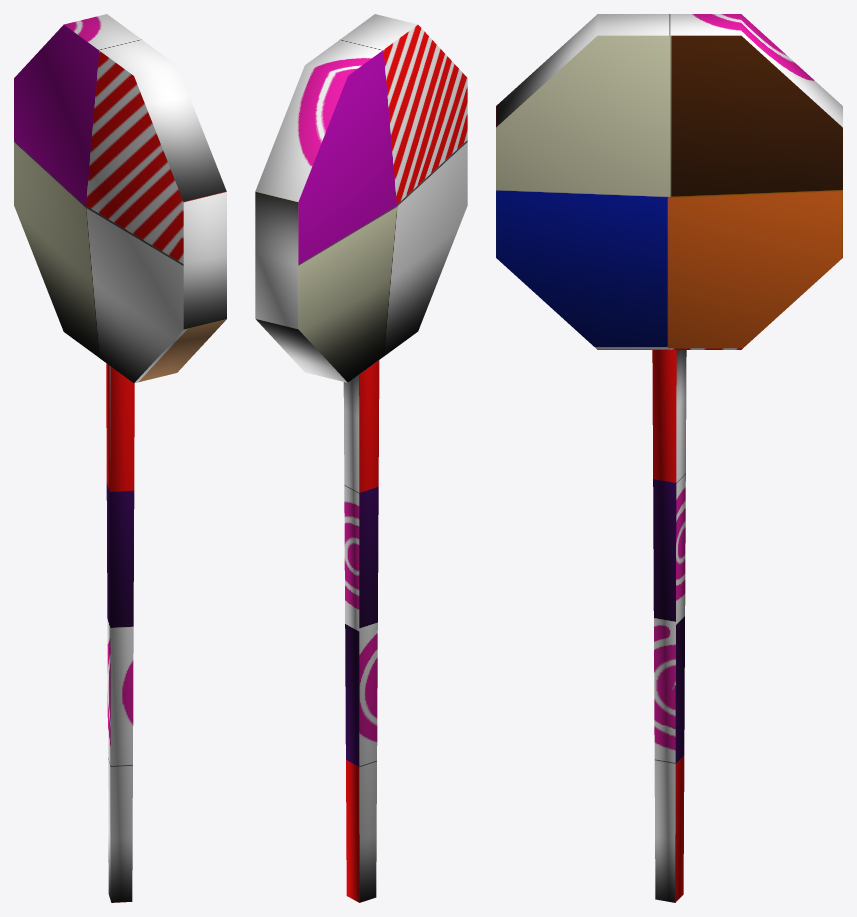
File: lecca lp.fbx
3 renders of one model, left to right at view 1: azimuth 30°, elevation 25°; view 2: azimuth 150°, elevation 25°; view 3: azimuth 270°, elevation 25°, orthographic. The views are drawn at different scales.
Visible parts, largest first — view 1: lecca_lecca_testa_lp, lecca_lecca_steak_lp; view 2: lecca_lecca_testa_lp, lecca_lecca_steak_lp; view 3: lecca_lecca_testa_lp, lecca_lecca_steak_lp.
Part boxes in pixels (x1,y1,x2,y2): lecca_lecca_testa_lp: [14, 14, 226, 383]; lecca_lecca_steak_lp: [106, 363, 134, 902]; lecca_lecca_testa_lp: [255, 14, 467, 382]; lecca_lecca_steak_lp: [343, 360, 379, 902]; lecca_lecca_testa_lp: [496, 14, 842, 349]; lecca_lecca_steak_lp: [652, 350, 686, 902].
Size of the model in its own units: 0.2607 by 3.03 by 1.09.
